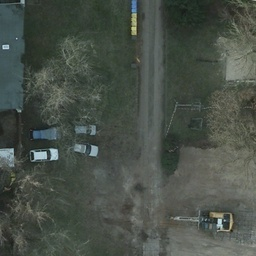car: (67, 141, 100, 158), (70, 119, 97, 137), (30, 147, 58, 162)
